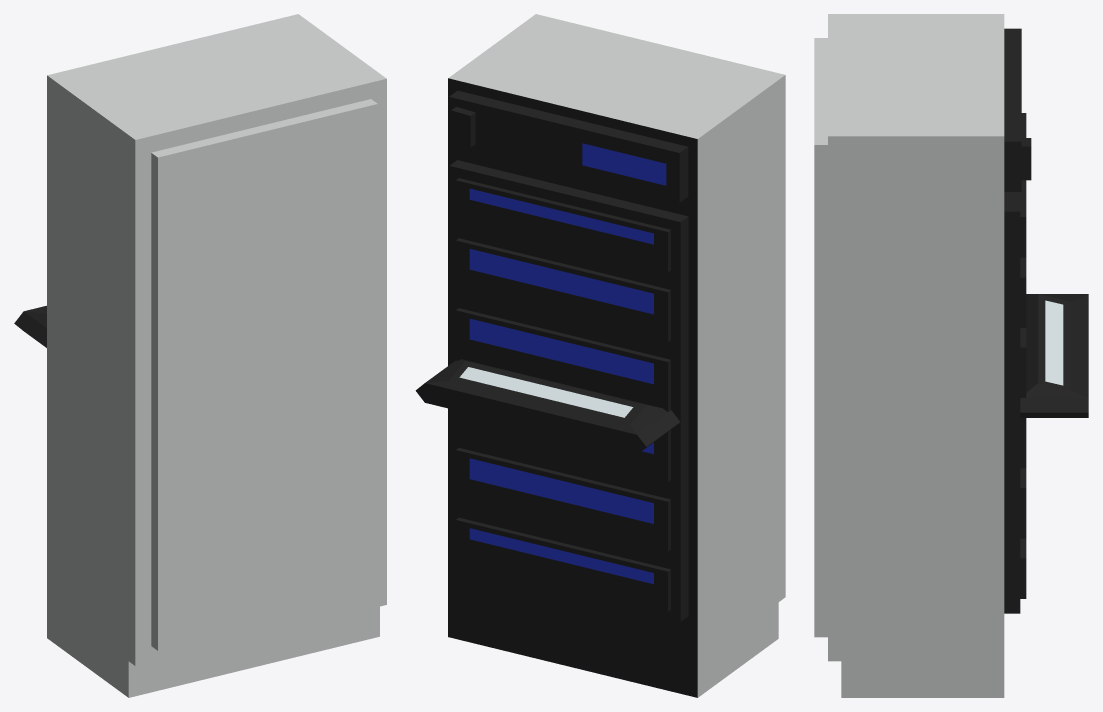
File: fridge(no_server).fbx
The picture shows the model from 3 angles, left to right: view 1: azimuth 30°, elevation 25°; view 2: azimuth 150°, elevation 25°; view 3: azimuth 270°, elevation 25°; orthographic projection.
Visible parts, largest first — view 1: doorFridge; view 2: doorFridge; view 3: doorFridge.
Boxes of the visible parts, x1,y1,x2,y2 form: doorFridge: (14, 14, 386, 697); doorFridge: (415, 14, 785, 697); doorFridge: (814, 14, 1088, 697).
Bounding box in the file's own units: 215 × 460 × 204.
